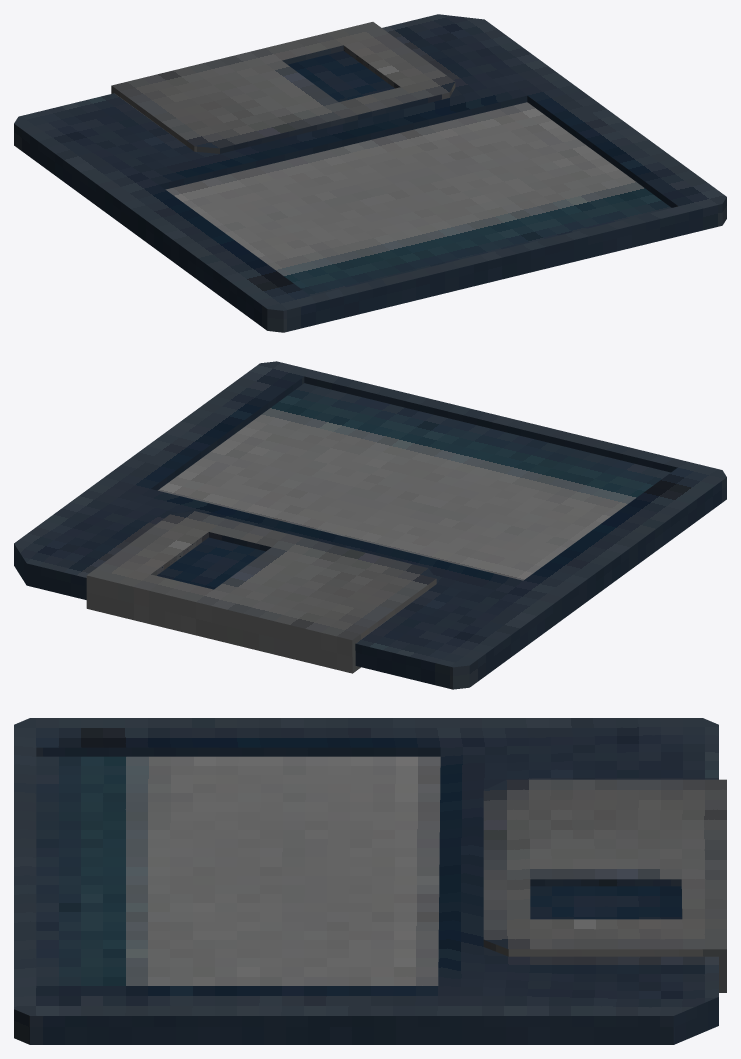
File: floppy_disc_1.fbx
3 views of the same model, one above another, from view 1: azimuth 30°, elevation 25°; view 2: azimuth 150°, elevation 25°; view 3: azimuth 270°, elevation 25° (orthographic). The views are drawn at different scales.
Visible parts, largest first — view 1: floppy_disc_1; view 2: floppy_disc_1; view 3: floppy_disc_1.
Boxes of the visible parts, left/top/right/bottom form: floppy_disc_1: left=14, top=14, right=726, bottom=332; floppy_disc_1: left=14, top=361, right=726, bottom=689; floppy_disc_1: left=14, top=718, right=726, bottom=1044.
Size of the model in its own units: 0.1584 by 0.1602 by 0.0108.
